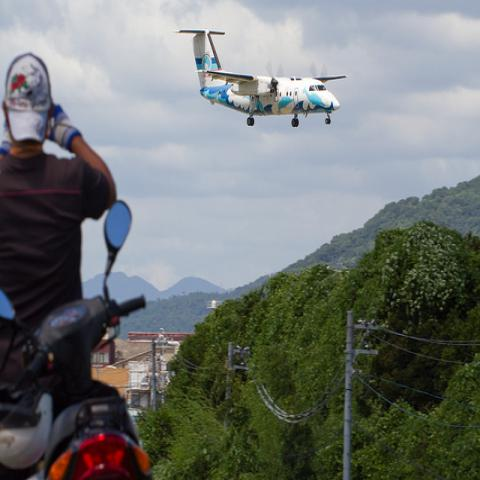motorcycle: (0, 199, 155, 473)
